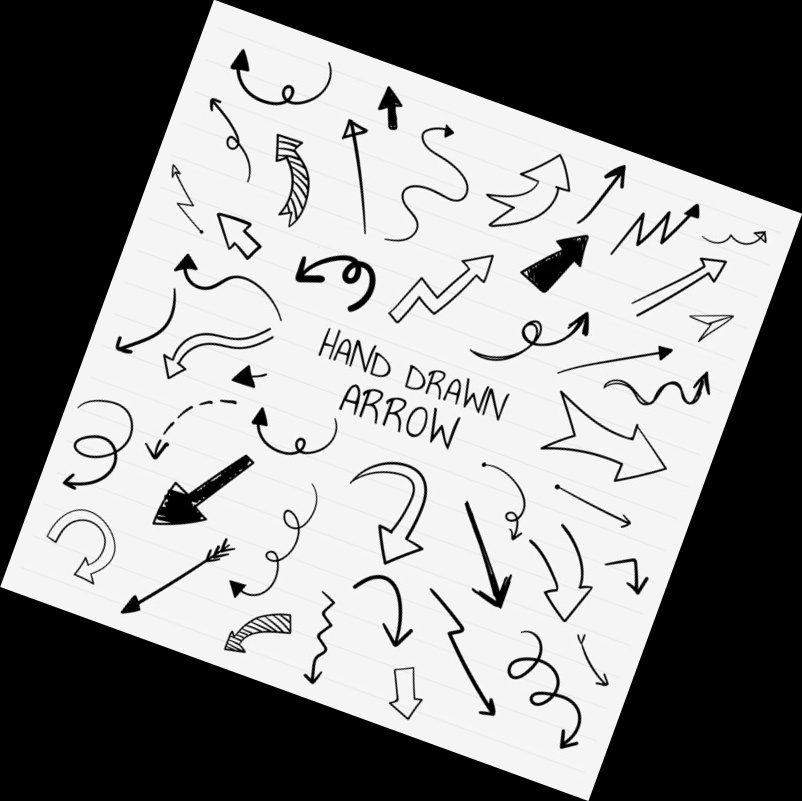arrow: (152, 467, 229, 527), (535, 558, 596, 627), (514, 151, 572, 222), (375, 498, 431, 568), (270, 131, 318, 199), (208, 208, 267, 263), (465, 554, 516, 614), (381, 663, 429, 722), (671, 254, 728, 301), (447, 253, 497, 305), (71, 539, 123, 587), (453, 671, 502, 721), (336, 117, 370, 179), (143, 412, 184, 463), (118, 581, 174, 616), (376, 603, 416, 652), (680, 309, 734, 345), (289, 249, 340, 286), (550, 308, 593, 347), (373, 85, 403, 139), (60, 460, 112, 491), (114, 317, 153, 355), (225, 47, 255, 95), (598, 163, 628, 211), (622, 342, 675, 369), (591, 499, 634, 531), (225, 575, 269, 604), (576, 658, 613, 690), (557, 716, 587, 755), (250, 406, 275, 451), (299, 654, 327, 687), (174, 251, 198, 288), (689, 370, 712, 408), (624, 567, 650, 599), (737, 229, 773, 252), (675, 202, 702, 231), (167, 164, 192, 195), (425, 121, 457, 145), (208, 97, 231, 130), (506, 522, 524, 543)
